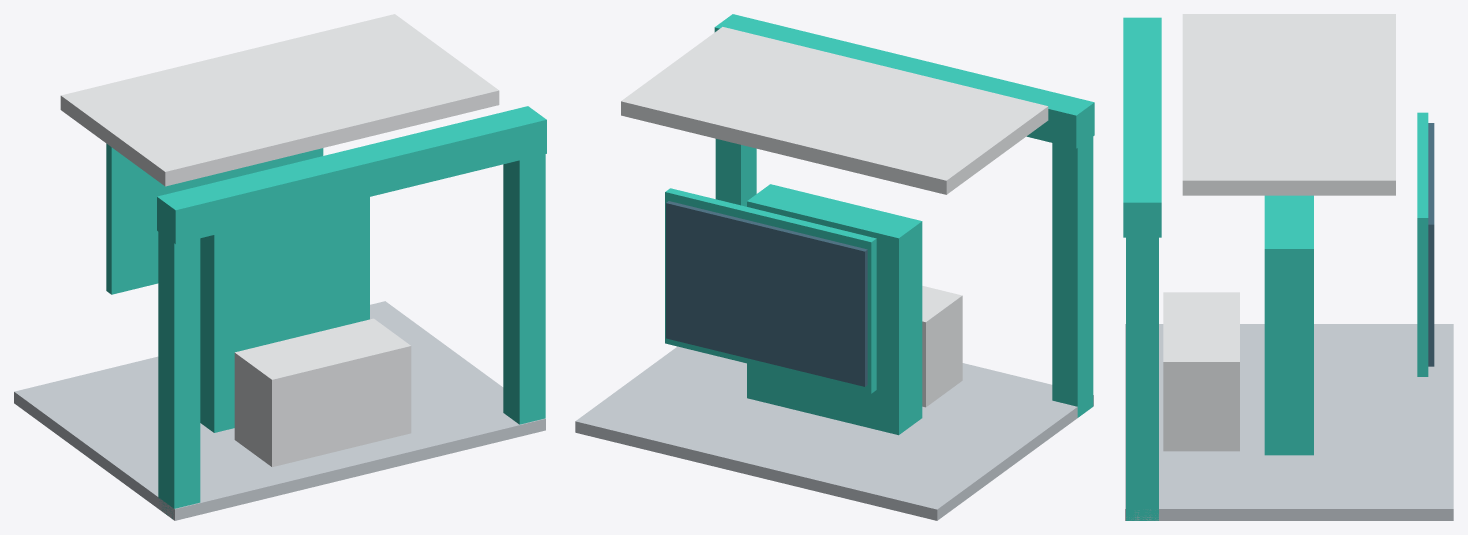
3 views of the same model, side by side, from view 1: azimuth 30°, elevation 25°; view 2: azimuth 150°, elevation 25°; view 3: azimuth 270°, elevation 25° (orthographic). The views are drawn at different scales.
Parts seen in each view (by area): view 1: Exhibition Booth Concept; view 2: Exhibition Booth Concept; view 3: Exhibition Booth Concept.
Part boxes in pixels (box(x1,y1,x2,y2)): Exhibition Booth Concept: box(14, 14, 546, 520); Exhibition Booth Concept: box(575, 14, 1094, 520); Exhibition Booth Concept: box(1123, 14, 1453, 520).
Size of the model in its own units: 4 by 3.34 by 3.01.
